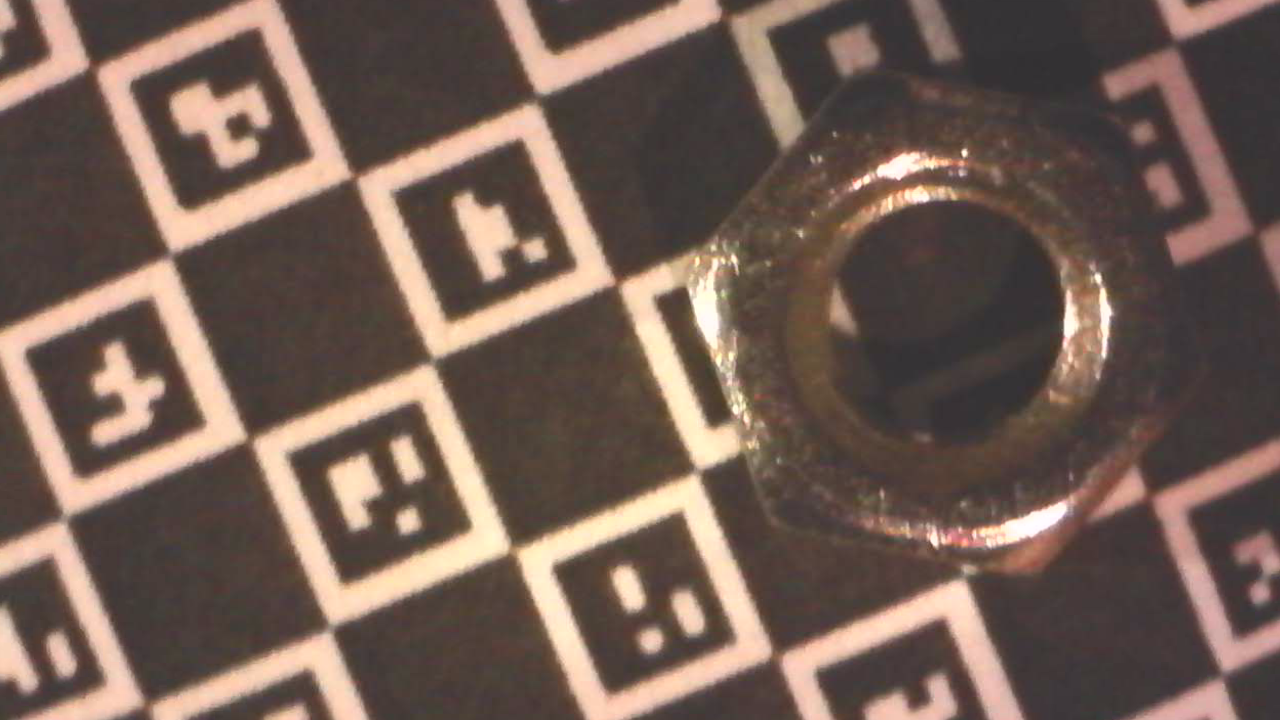Bolt: (689, 73, 1215, 572)
